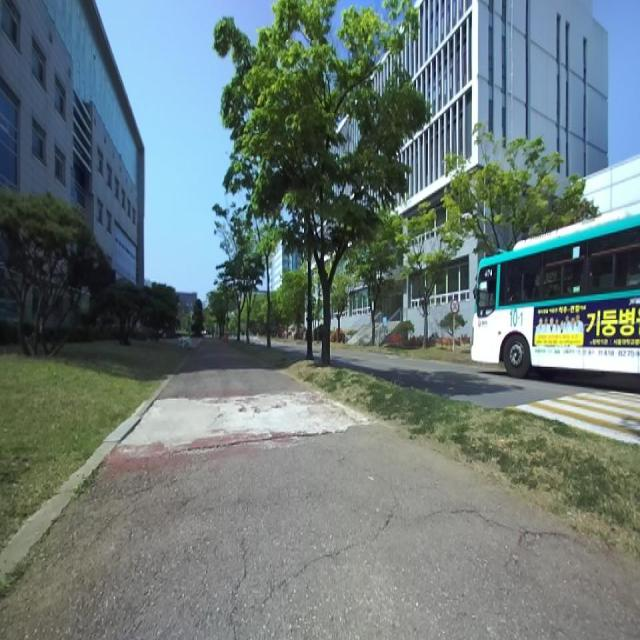sidewalk: (0, 341, 640, 638)
